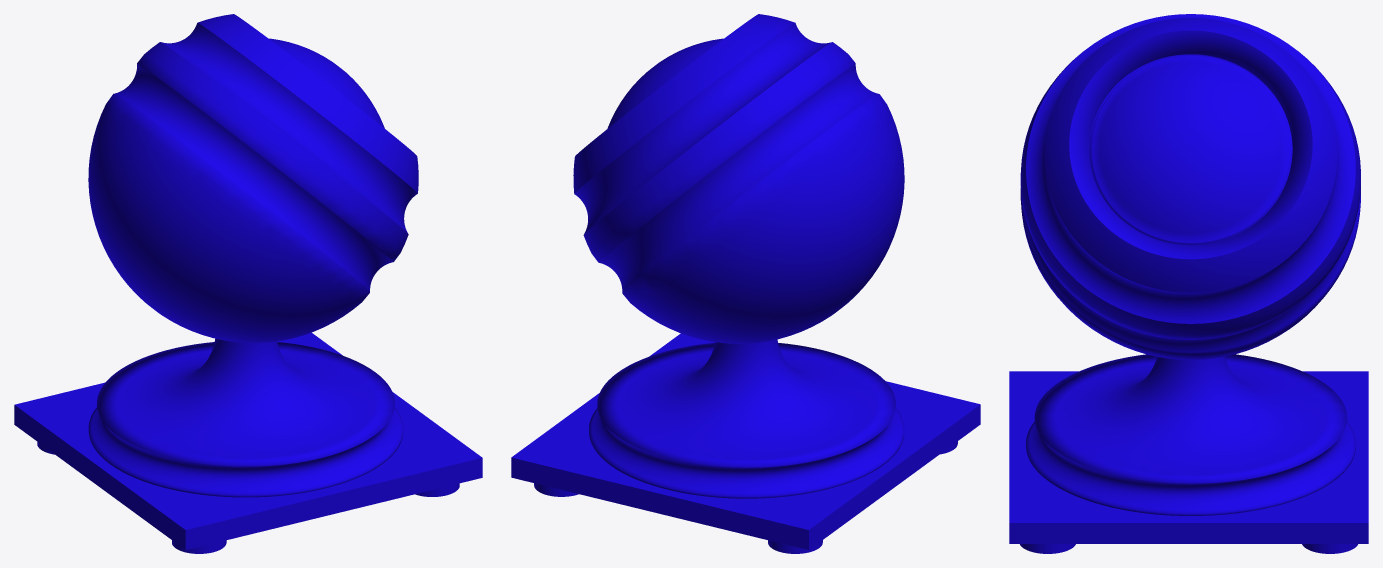
File: PBRSphere.fbx
3 views of the same model, side by side, from view 1: azimuth 30°, elevation 25°; view 2: azimuth 150°, elevation 25°; view 3: azimuth 270°, elevation 25° (orthographic). The views are drawn at different scales.
Parts seen in each view (by area): view 1: Shape.001; view 2: Shape.001; view 3: Shape.001.
Part boxes in pixels (box(x1,y1,x2,y2)): Shape.001: box(14, 14, 482, 553); Shape.001: box(511, 14, 980, 553); Shape.001: box(1009, 14, 1368, 553).
Bounding box in the file's own units: 23.25 × 32.43 × 23.2.
